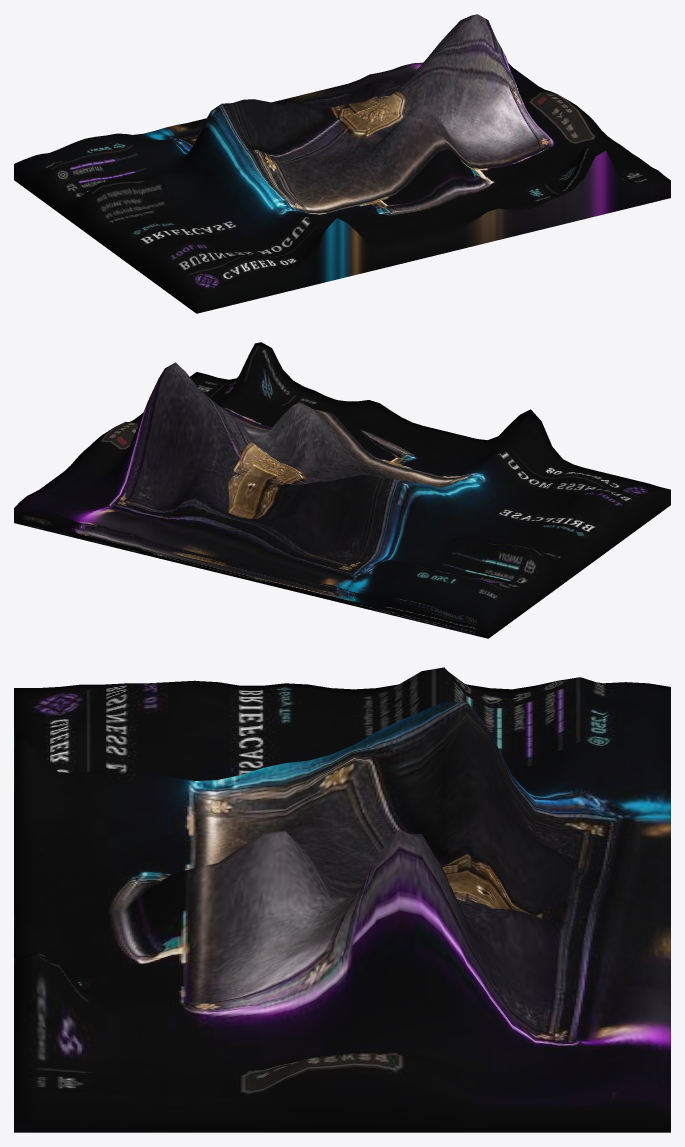
The model's file is CAREER_08_Tool_01_Briefcase.glb.
The picture shows the model from 3 angles, top to bottom: view 1: azimuth 30°, elevation 25°; view 2: azimuth 150°, elevation 25°; view 3: azimuth 270°, elevation 25°; orthographic projection. The views are drawn at different scales.
Visible parts, largest first — view 1: CAREER_08_Tool_01_Briefcase; view 2: CAREER_08_Tool_01_Briefcase; view 3: CAREER_08_Tool_01_Briefcase.
Part boxes in pixels (bbox=[...]): CAREER_08_Tool_01_Briefcase: bbox=[14, 14, 670, 313]; CAREER_08_Tool_01_Briefcase: bbox=[14, 342, 670, 638]; CAREER_08_Tool_01_Briefcase: bbox=[14, 667, 670, 1132].
Size of the model in its own units: 2 by 0.51 by 1.33.
Materials: 1 (1 with a texture image).
